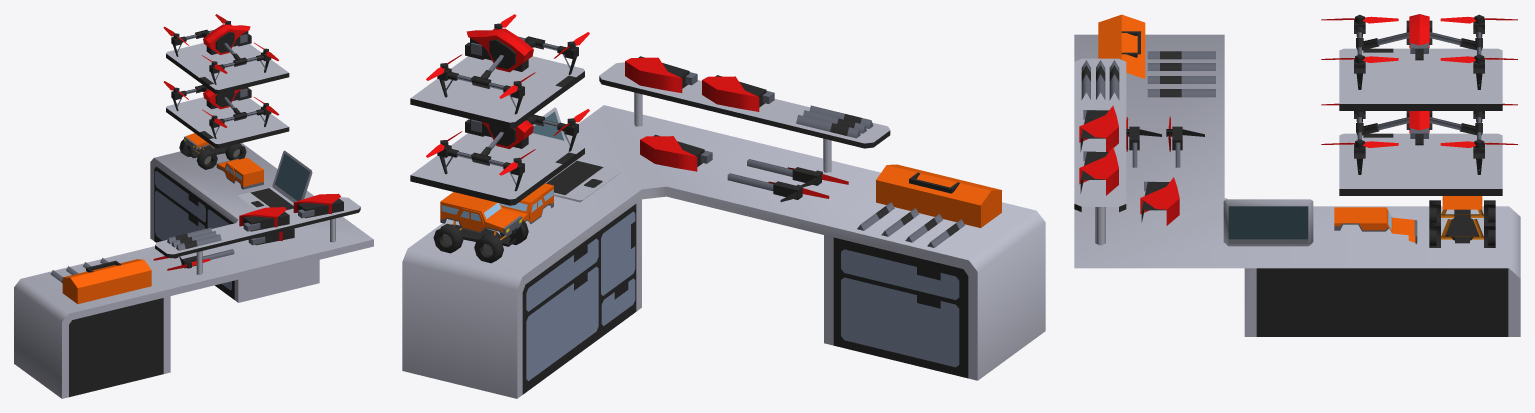
Rendered from interior_E_013.fbx.
3 renders of one model, left to right at view 1: azimuth 30°, elevation 25°; view 2: azimuth 150°, elevation 25°; view 3: azimuth 270°, elevation 25°, orthographic. The views are drawn at different scales.
Parts seen in each view (by area): view 1: interior_E_013; view 2: interior_E_013; view 3: interior_E_013.
Boxes of the visible parts, x1,y1,x2,y2 form: interior_E_013: [14, 14, 373, 398]; interior_E_013: [402, 14, 1045, 398]; interior_E_013: [1074, 14, 1520, 336].
Bounding box in the file's own units: 322 × 224 × 255.
